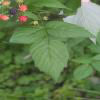Raspberry leaf: (30, 39, 70, 86), (44, 20, 98, 38), (1, 25, 46, 45)
